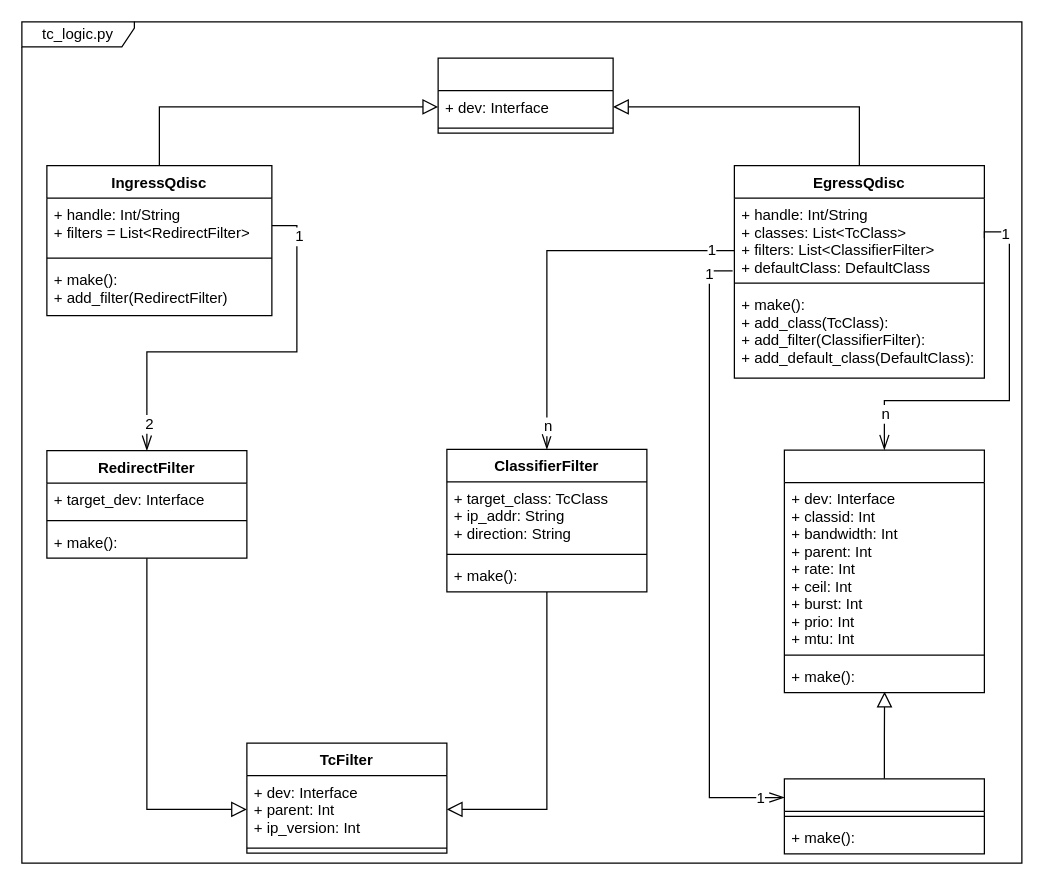
This 1046x885 diagram has some shape labels left out. The shapes that lost their labels are listed below. From the top down, each one's box as (x1, y1, x2, y2) in pixels, then its label:
(437, 57, 613, 133): TcQdisc
(783, 449, 984, 692): TcClass
(783, 778, 984, 854): DefaultClass
